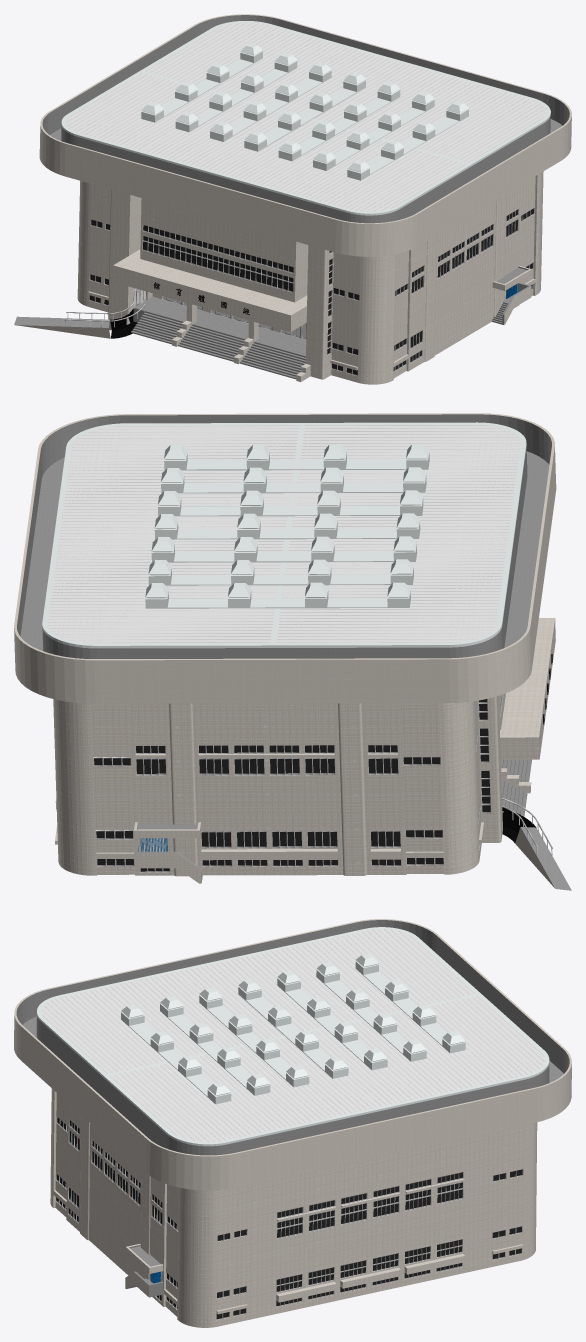
Rendered from 經國館.glb.
3 views of the same model, one above another, from view 1: azimuth 30°, elevation 25°; view 2: azimuth 150°, elevation 25°; view 3: azimuth 270°, elevation 25° (orthographic). The views are drawn at different scales.
Parts seen in each view (by area): view 1: _G-Object.003 (Loose Mesh), G-Object.075, G-Object.076, G-Object.058, G-Object.060, G-Object.086, _C-組件#7 (Loose Mesh).001; view 2: G-Object.075, _G-Object.003 (Loose Mesh), G-Object.076, G-Object.060, G-Object.085, G-Object.058, G-Object.072, _C-組件#7 (Loose Mesh), G-Object.069, G-Object.070, G-Object.074, G-Object.071 (+9 smaller); view 3: G-Object.075, _G-Object.003 (Loose Mesh), G-Object.076, _C-組件#7 (Loose Mesh).001, G-Object.014, G-Object.086, G-Object.015, G-Object.079, G-Object.083, G-Object.082, G-Object.084, G-Object.078 (+2 smaller).
Boxes of the visible parts, x1=… form: _G-Object.003 (Loose Mesh): x1=77, y1=171, x2=543, y2=384; G-Object.075: x1=61, y1=21, x2=550, y2=215; G-Object.076: x1=39, y1=14, x2=571, y2=256; G-Object.058: x1=131, y1=296, x2=306, y2=379; G-Object.060: x1=14, y1=308, x2=137, y2=338; G-Object.086: x1=491, y1=282, x2=531, y2=324; _C-組件#7 (Loose Mesh).001: x1=492, y1=265, x2=531, y2=290; G-Object.075: x1=42, y1=422, x2=526, y2=648; _G-Object.003 (Loose Mesh): x1=53, y1=618, x2=555, y2=876; G-Object.076: x1=14, y1=413, x2=556, y2=703; G-Object.060: x1=502, y1=807, x2=571, y2=890; G-Object.085: x1=134, y1=844, x2=202, y2=883; G-Object.058: x1=501, y1=759, x2=531, y2=816; G-Object.072: x1=145, y1=598, x2=278, y2=608; _C-組件#7 (Loose Mesh): x1=134, y1=822, x2=201, y2=838; G-Object.069: x1=158, y1=506, x2=291, y2=516; G-Object.070: x1=155, y1=529, x2=288, y2=539; G-Object.074: x1=152, y1=552, x2=284, y2=562; G-Object.071: x1=148, y1=575, x2=281, y2=585; G-Object.075: x1=37, y1=927, x2=549, y2=1146; _G-Object.003 (Loose Mesh): x1=50, y1=1088, x2=537, y2=1327; G-Object.076: x1=14, y1=919, x2=571, y2=1190; _C-組件#7 (Loose Mesh).001: x1=125, y1=1244, x2=163, y2=1273; G-Object.014: x1=276, y1=1281, x2=336, y2=1302; G-Object.086: x1=125, y1=1271, x2=163, y2=1297; G-Object.015: x1=404, y1=1254, x2=464, y2=1274; G-Object.079: x1=199, y1=1002, x2=261, y2=1044; G-Object.083: x1=160, y1=1010, x2=221, y2=1052; G-Object.082: x1=355, y1=968, x2=417, y2=1010; G-Object.084: x1=277, y1=985, x2=339, y2=1027; G-Object.078: x1=121, y1=1019, x2=182, y2=1061.
Bounding box in the file's own units: 77 × 31.13 × 74.33.
10 materials, 4 textured.
